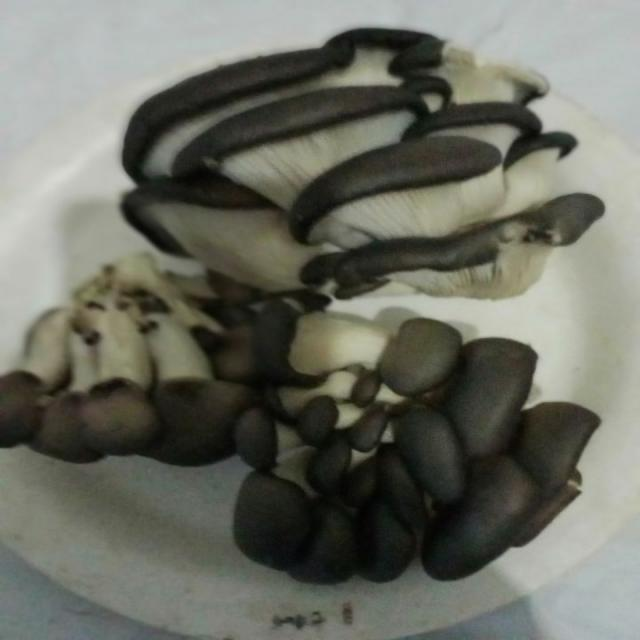Pleurotus ostreatus: (112, 27, 604, 302), (231, 314, 601, 583), (2, 259, 315, 465)
